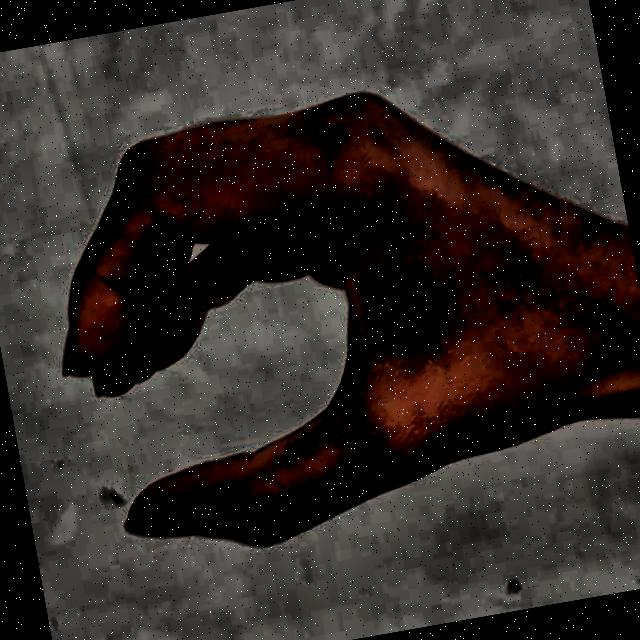Ka: (3, 18, 640, 636)
